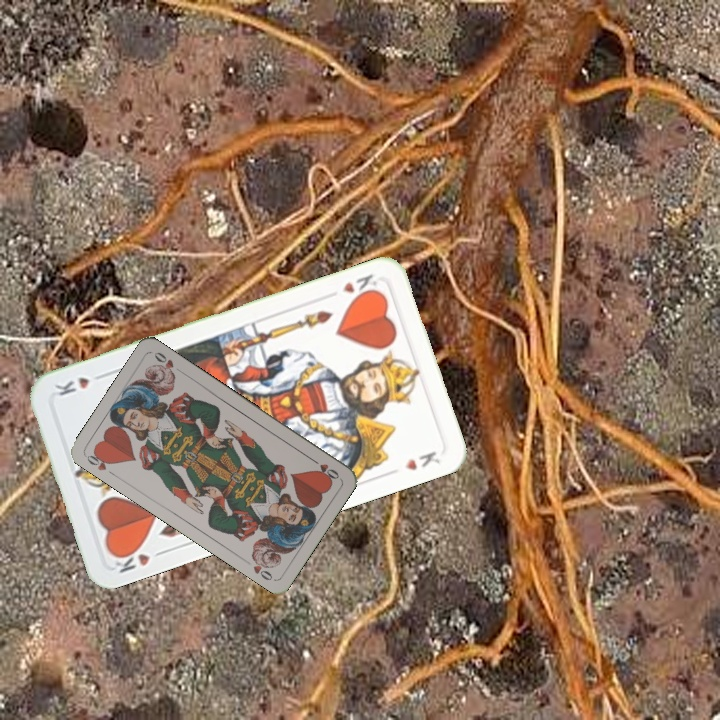HK: (109, 542, 168, 576), (338, 270, 385, 302)
HO: (82, 447, 118, 478), (306, 454, 342, 482)
